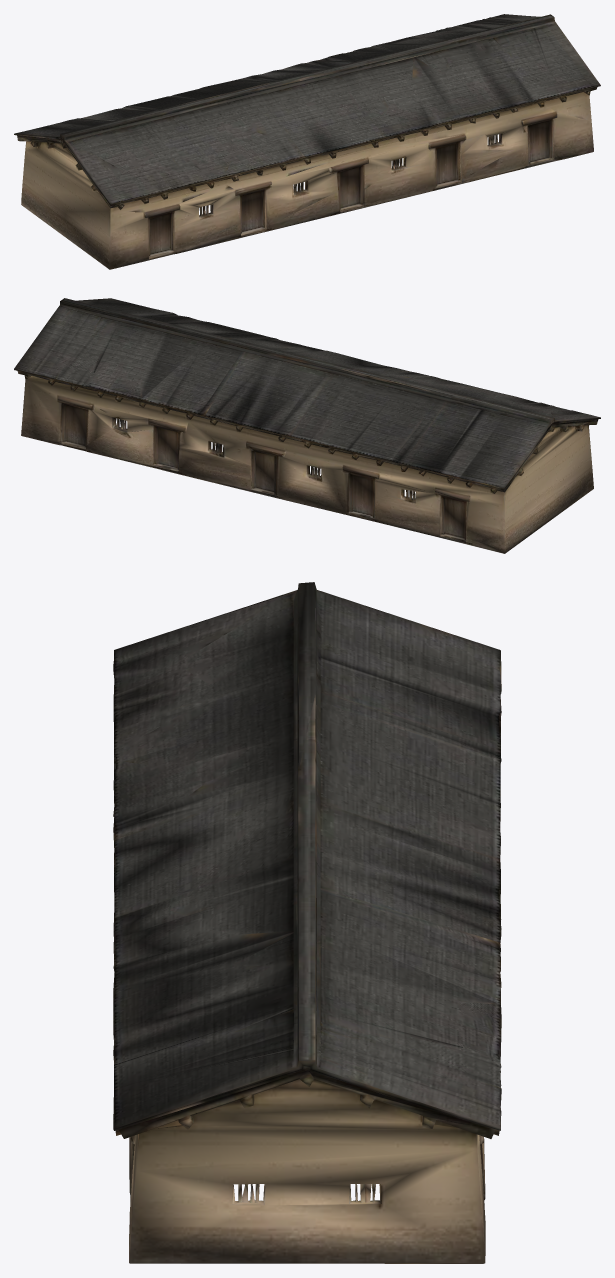
The model's file is barrack_lod0.glb.
3 renders of one model, top to bottom at view 1: azimuth 30°, elevation 25°; view 2: azimuth 150°, elevation 25°; view 3: azimuth 270°, elevation 25°, orthographic. The views are drawn at different scales.
Parts seen in each view (by area): view 1: node_0; view 2: node_0; view 3: node_0.
Boxes of the visible parts, box(x1,y1,x2,y2) form: node_0: box(14, 14, 600, 269); node_0: box(14, 298, 600, 553); node_0: box(113, 582, 501, 1263).
Size of the model in its own units: 1.13 by 0.2282 by 0.3888.
1 material, 1 textured.
